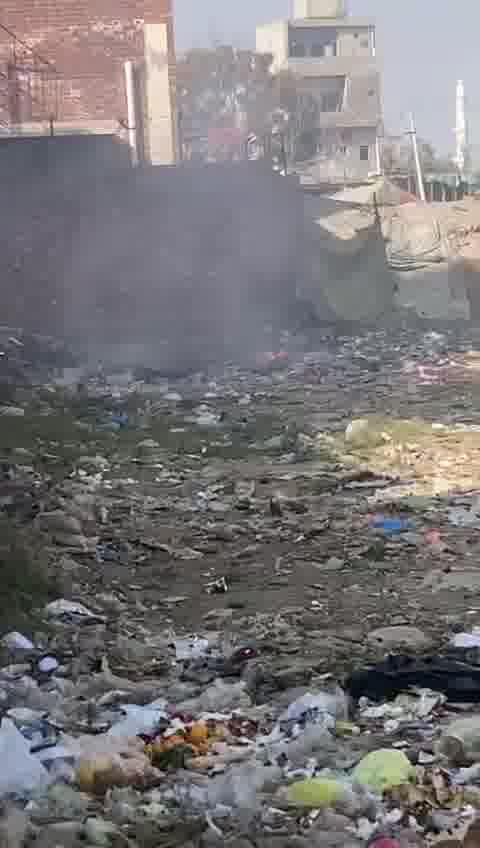garbage: (0, 334, 480, 848)
